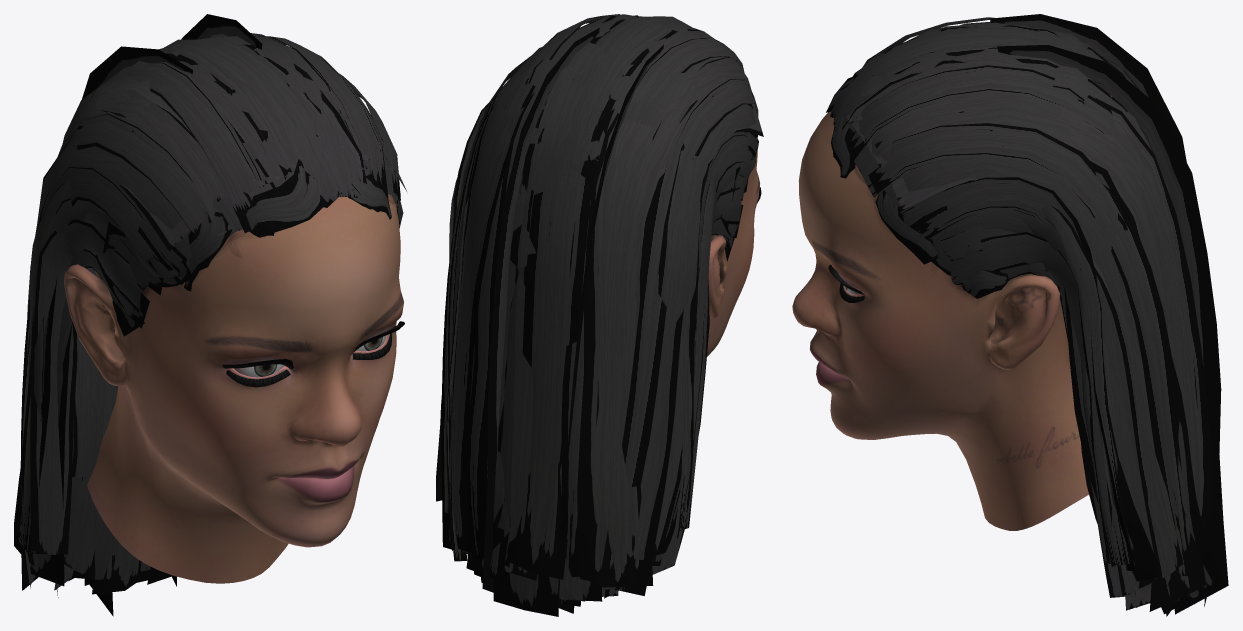
Rendered from rihanna.glb.
3 renders of one model, left to right at view 1: azimuth 30°, elevation 25°; view 2: azimuth 150°, elevation 25°; view 3: azimuth 270°, elevation 25°, orthographic. The views are drawn at different scales.
Visible parts, largest first — view 1: haircards_low, head_low, lashes, eyes_low, lashes1; view 2: haircards_low, head_low; view 3: haircards_low, head_low.
Part boxes in pixels (left/top/right/bottom): haircards_low: left=14, top=14, right=406, bottom=616; head_low: left=64, top=194, right=403, bottom=583; lashes: left=222, top=321, right=404, bottom=386; eyes_low: left=234, top=335, right=386, bottom=377; lashes1: left=222, top=324, right=404, bottom=387; haircards_low: left=436, top=14, right=763, bottom=616; head_low: left=707, top=150, right=759, bottom=356; haircards_low: left=826, top=14, right=1228, bottom=616; head_low: left=792, top=111, right=1088, bottom=530.
Size of the model in its own units: 0.00984 by 0.0191 by 0.0132.
2 materials, 2 textured.
